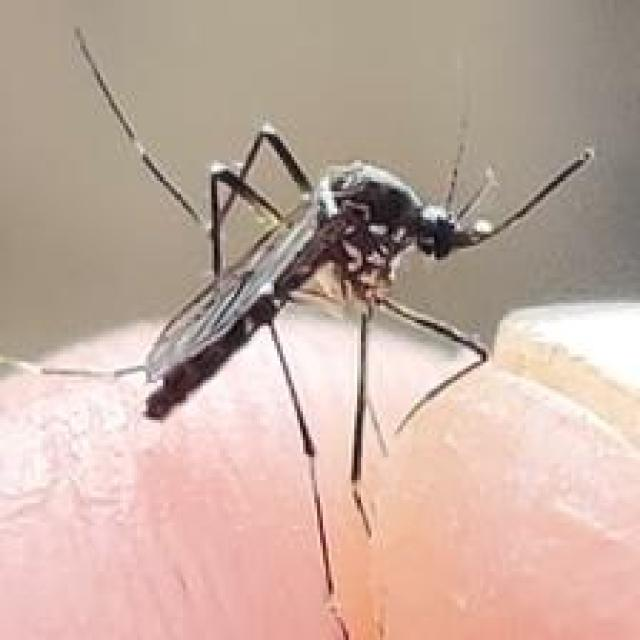Aedes albopictus: (37, 24, 597, 639)
